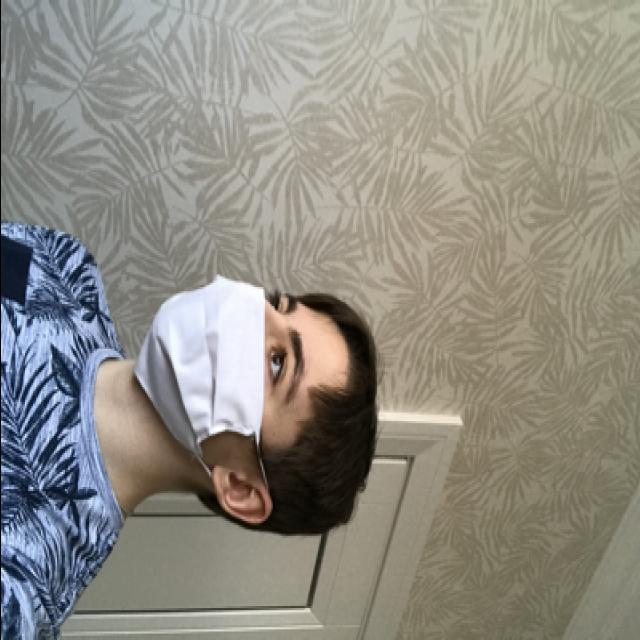mask: (126, 276, 320, 446)
